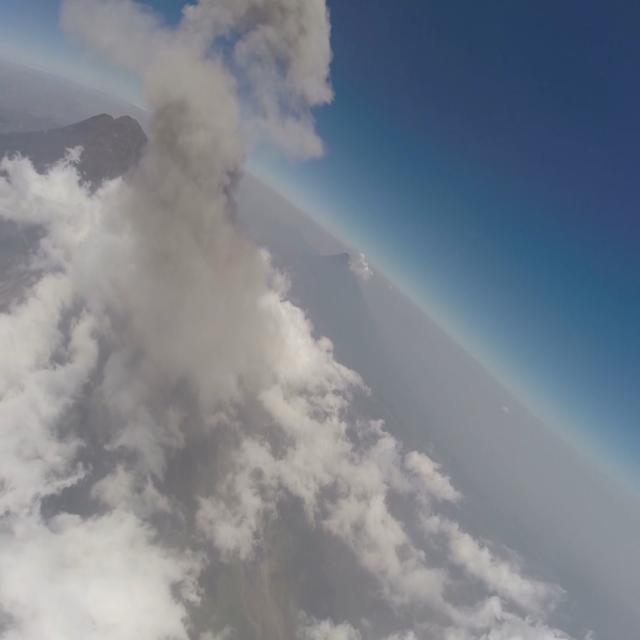Plume: (71, 0, 289, 420), (188, 0, 337, 166)
